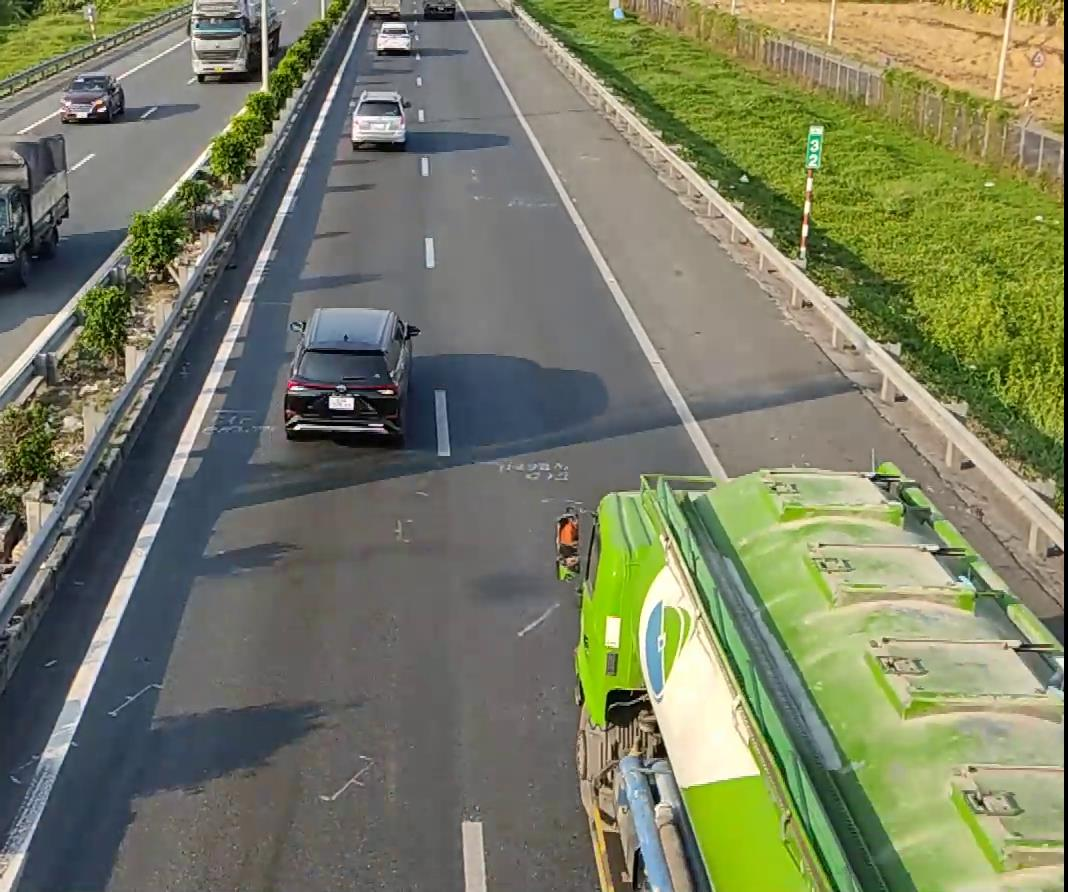car: (279, 306, 417, 441)
container: (556, 472, 1057, 884)
truck: (0, 121, 71, 290)
